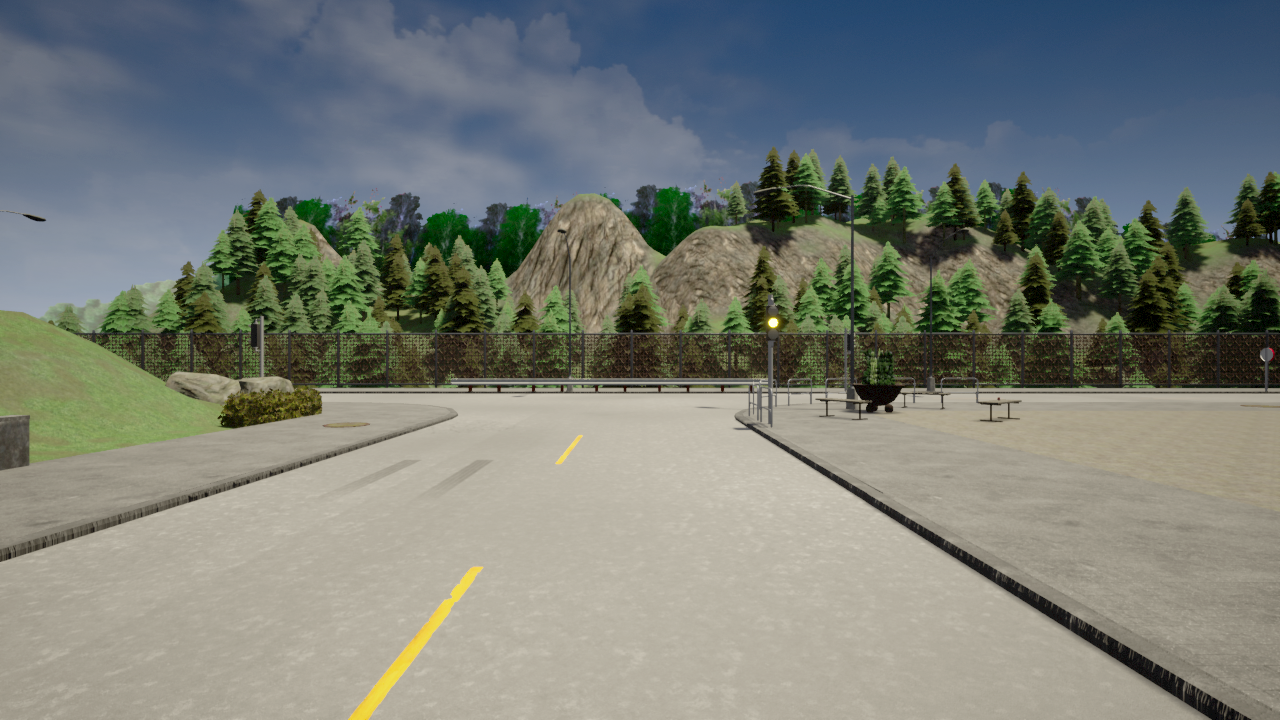yellow: (766, 304, 779, 342)
